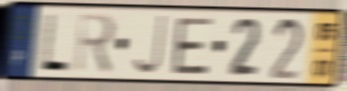2: (267, 15, 307, 81), (226, 16, 262, 79)
E: (171, 16, 215, 77)
J: (130, 13, 168, 77)
L: (37, 11, 71, 75)
R: (73, 11, 119, 77)
